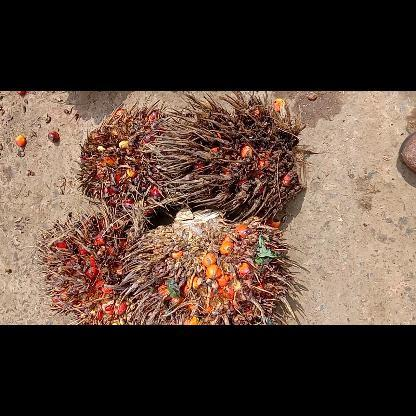Terlalu masak: (119, 200, 304, 324), (154, 91, 312, 227), (35, 202, 160, 324), (74, 94, 192, 218)
